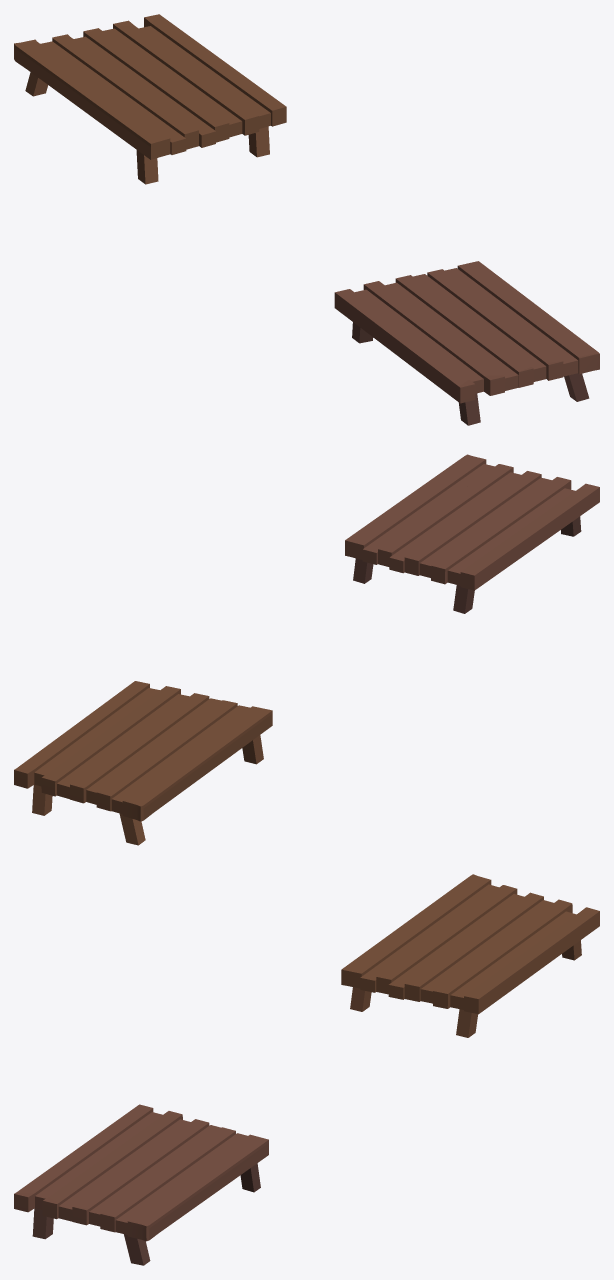
The model's file is TablesF.fbx.
3 views of the same model, one above another, from view 1: azimuth 30°, elevation 25°; view 2: azimuth 150°, elevation 25°; view 3: azimuth 330°, elevation 25° (orthographic). The views are drawn at different scales.
Visible parts, largest first — view 1: Table5, Table4; view 2: Table5, Table4; view 3: Table5, Table4.
Boxes of the visible parts, x1,y1,x2,y2 form: Table5: (14,14,286,184); Table4: (334,261,599,425); Table5: (14,681,272,845); Table4: (345,454,599,613); Table5: (341,874,599,1037); Table4: (14,1104,268,1265).
Bounding box in the file's own units: 146 × 41.18 × 749.
